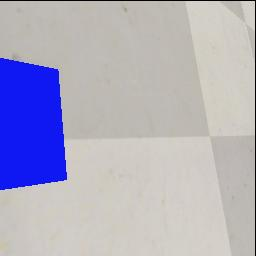box: (0, 56, 68, 190)
